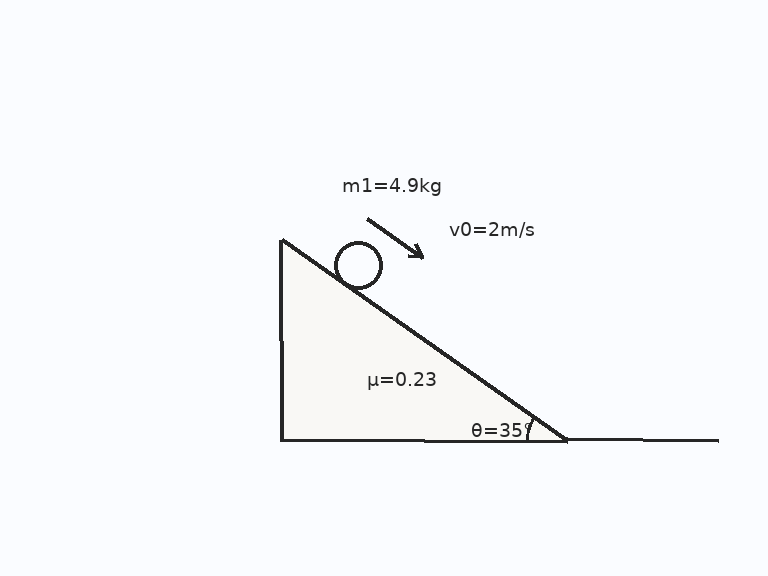ball: (332, 239, 384, 291)
ramp: (279, 238, 569, 442)
